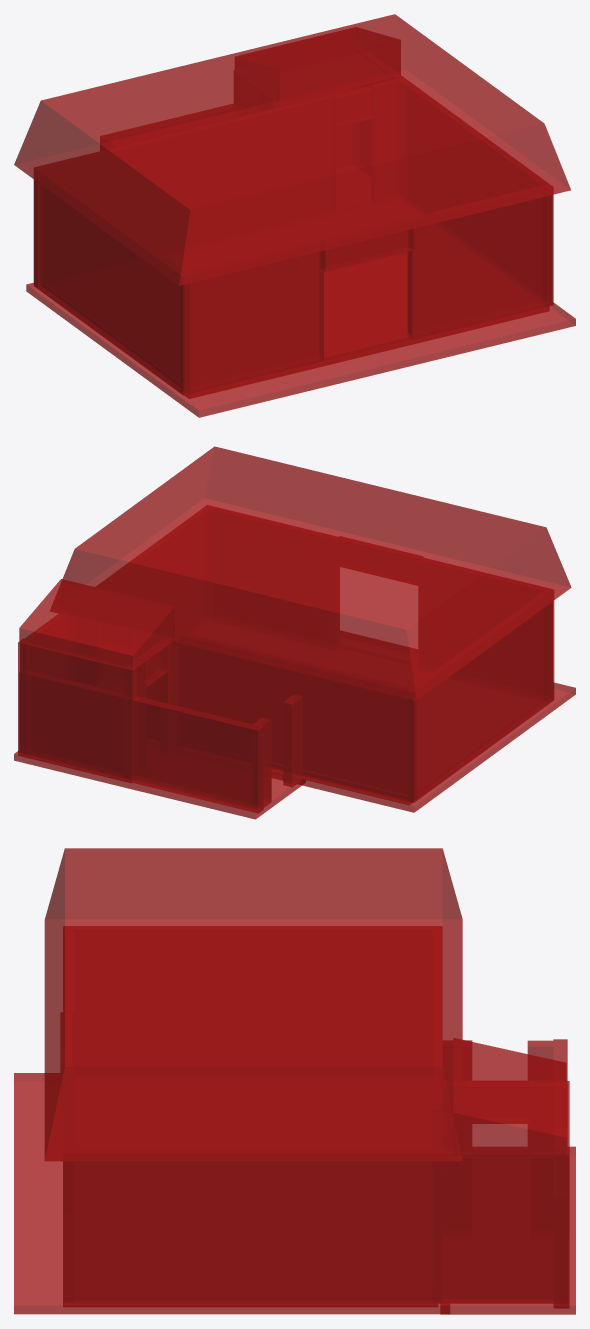
File: SM_Bld_Shop_01_COLLISION.fbx
3 views of the same model, one above another, from view 1: azimuth 30°, elevation 25°; view 2: azimuth 150°, elevation 25°; view 3: azimuth 270°, elevation 25° (orthographic). The views are drawn at different scales.
Parts seen in each view (by area): view 1: SM_Bld_Shop_01_COLLISION; view 2: SM_Bld_Shop_01_COLLISION; view 3: SM_Bld_Shop_01_COLLISION.
Part boxes in pixels (box(x1,y1,x2,y2)): SM_Bld_Shop_01_COLLISION: box(14, 14, 575, 417); SM_Bld_Shop_01_COLLISION: box(14, 446, 575, 819); SM_Bld_Shop_01_COLLISION: box(14, 848, 575, 1314).
Bounding box in the file's own units: 1062 × 493 × 1043.
